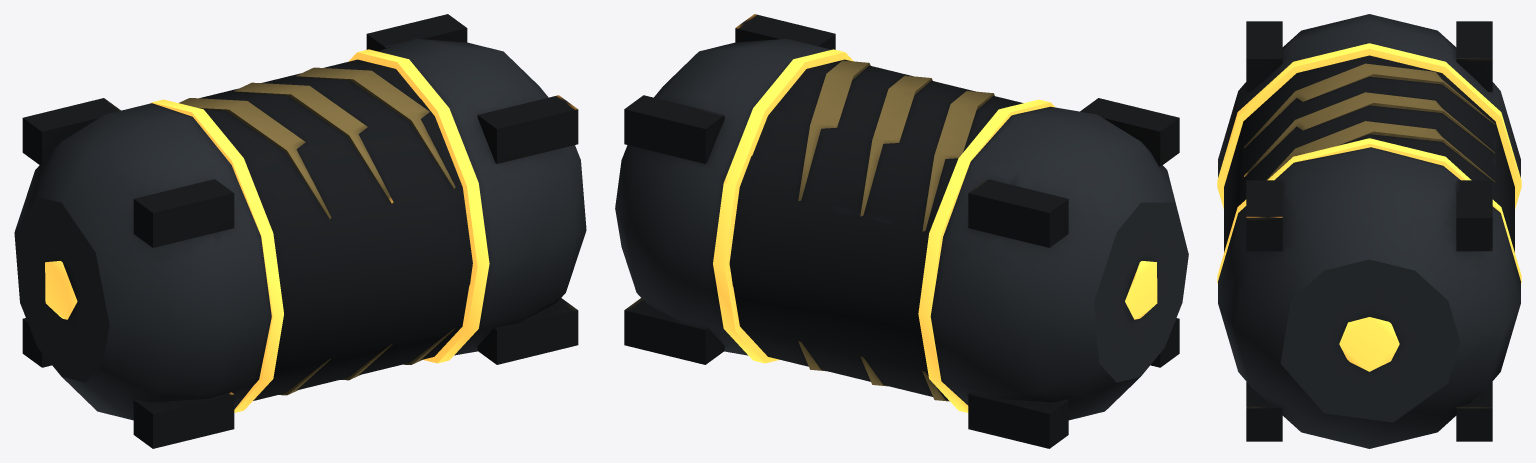
File: opr_prj_breach_canister_a.glb
3 renders of one model, left to right at view 1: azimuth 30°, elevation 25°; view 2: azimuth 150°, elevation 25°; view 3: azimuth 270°, elevation 25°, orthographic. The views are drawn at different scales.
Parts seen in each view (by area): view 1: mesh_intact; view 2: mesh_intact; view 3: mesh_intact.
Part boxes in pixels (box(x1,y1,x2,y2)): mesh_intact: box(14, 14, 586, 448); mesh_intact: box(615, 14, 1188, 448); mesh_intact: box(1217, 14, 1521, 448).
Size of the model in its own units: 0.2044 by 0.1166 by 0.1166.
Materials: 1 (1 with a texture image).
